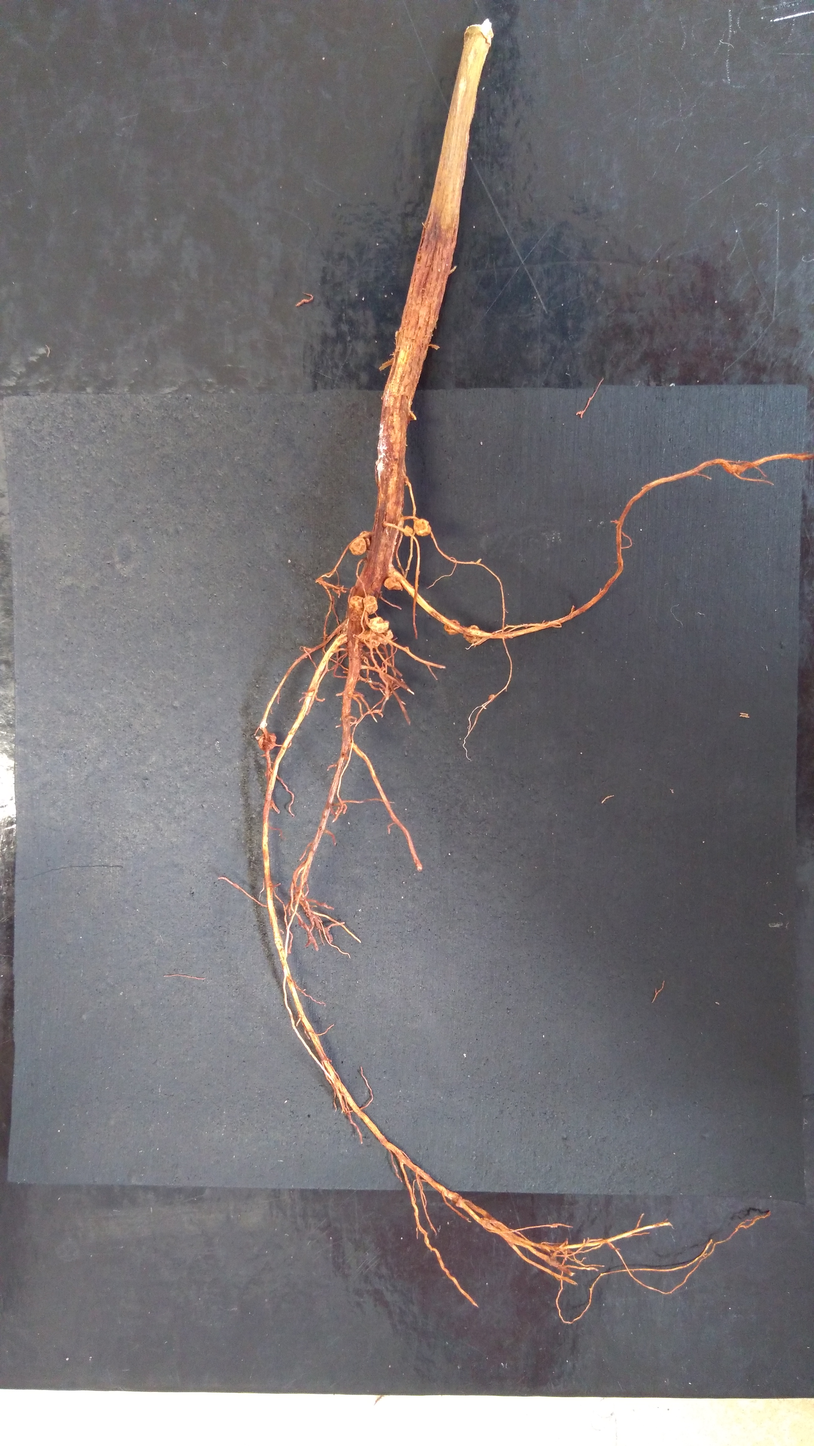nodule: (360, 630, 380, 649), (257, 732, 277, 750), (413, 518, 431, 536), (463, 625, 481, 643), (362, 596, 378, 615), (369, 617, 388, 633), (350, 538, 366, 555), (385, 577, 404, 591), (443, 619, 459, 635), (377, 629, 393, 645), (351, 609, 368, 621), (350, 595, 364, 609), (359, 531, 370, 548), (403, 525, 414, 537), (488, 694, 494, 701)
